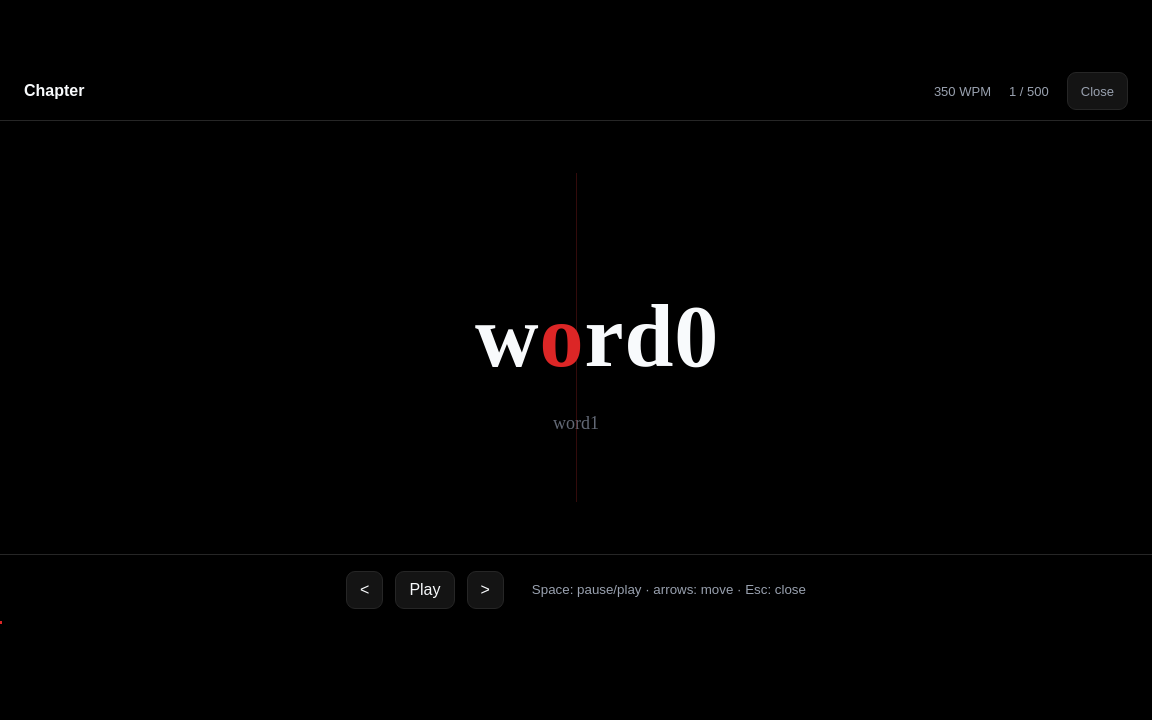
Test: focus player › pauses an accelerated reading and resets boost speed after an arrow seek
The width and height of the screenshot is (1152, 720).
Click the button "Play".
click(425, 590)  # box [395,570,454,608]
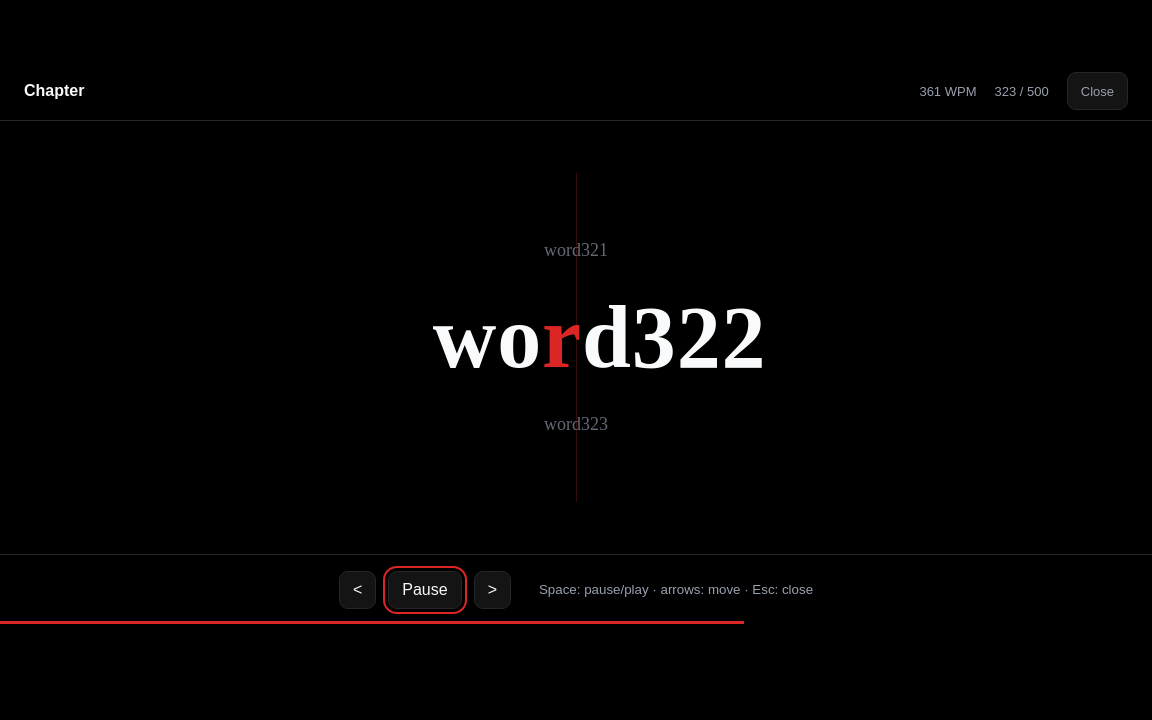
Expected: the text "361 WPM" is shown, [919,84,976,98]
Click the button named "Next words".
click(492, 590)  # box [474,570,511,608]
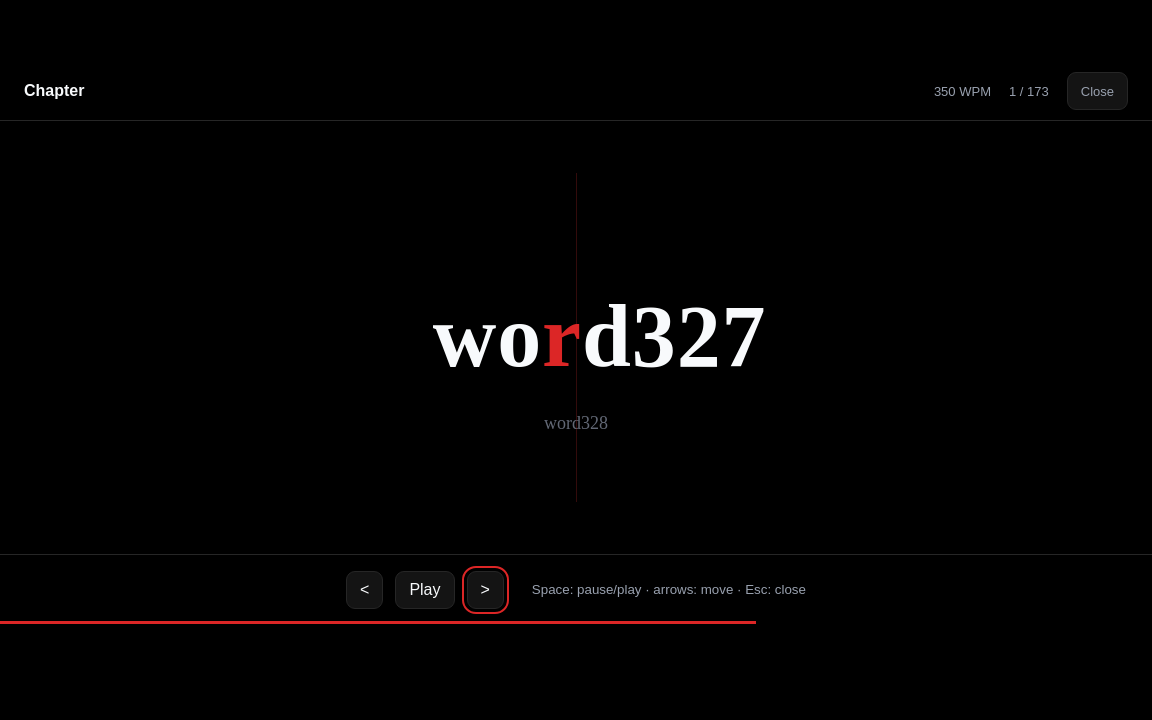
Expected: the text "350 WPM" is shown, [934,84,991,98]
Expected: the button "Play" is shown, [395,570,454,608]
